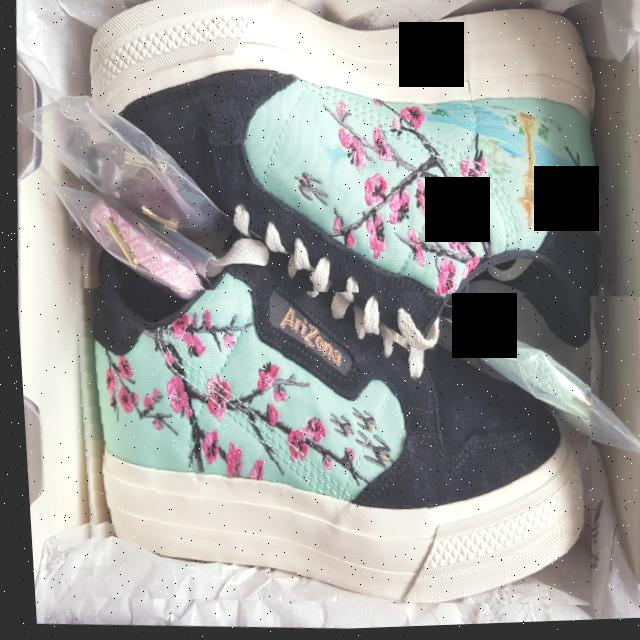shoe: (51, 231, 603, 625), (57, 0, 640, 318)
